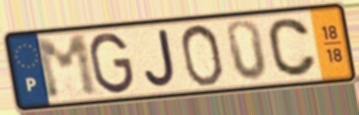0: (226, 18, 270, 85)
C: (265, 16, 319, 79)
G: (87, 31, 136, 96)
J: (142, 27, 178, 90)
M: (32, 32, 102, 103)
O: (178, 22, 225, 89)
